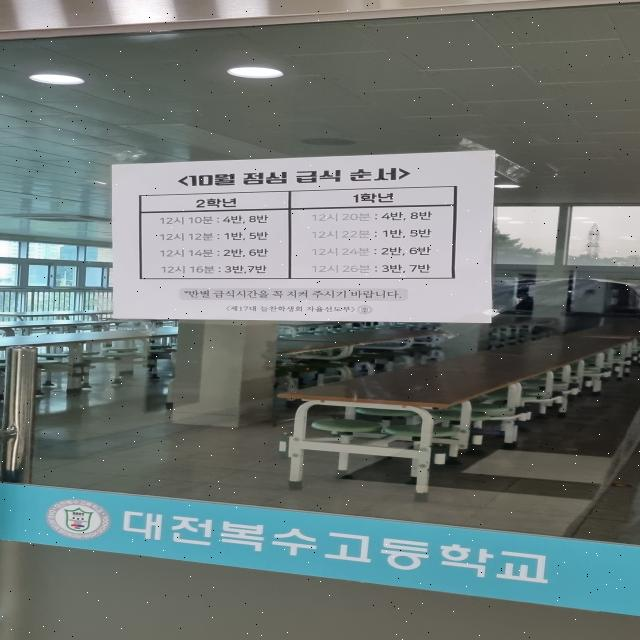logo: (43, 494, 116, 543), (355, 304, 373, 315)
